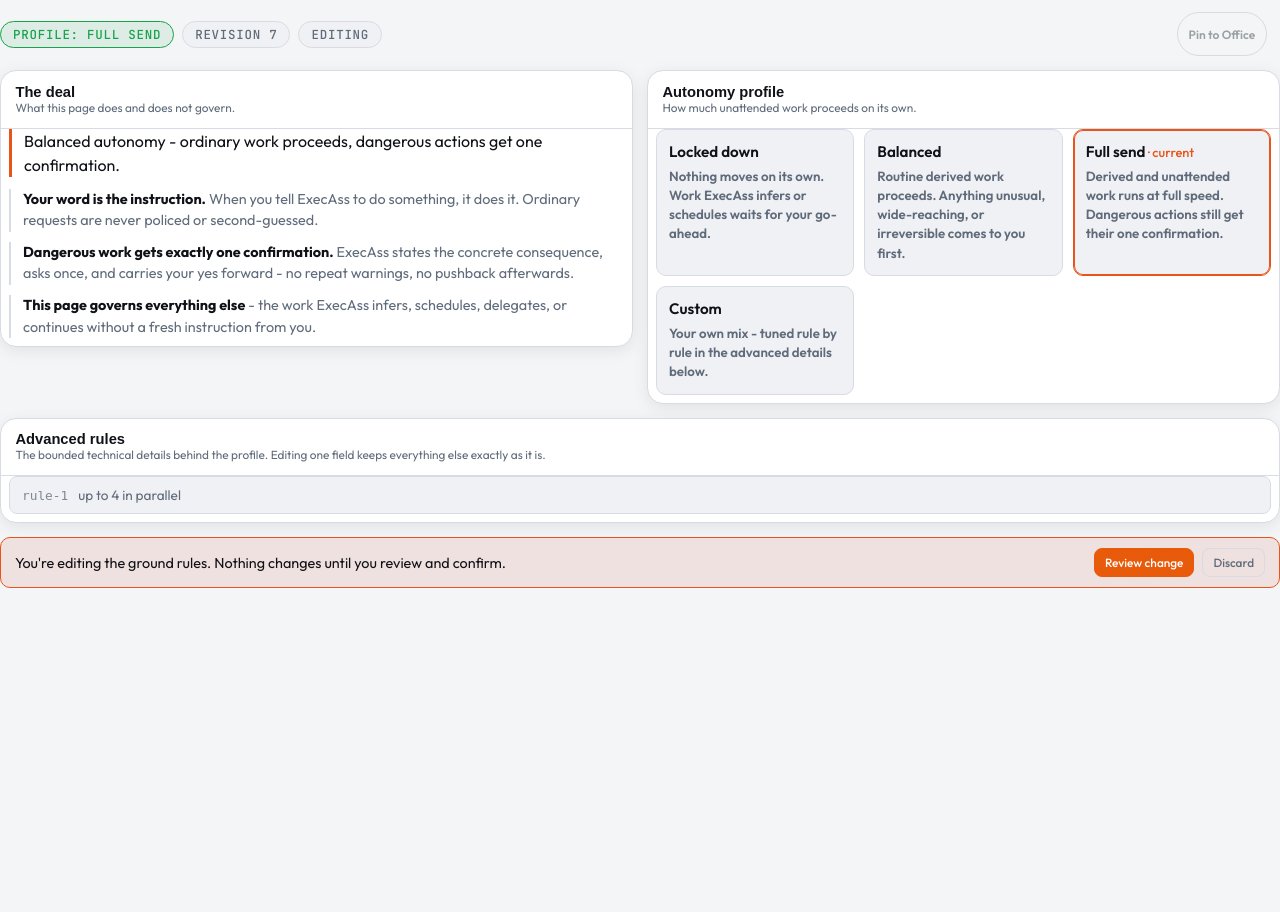
PolicyRoomPage editing › disables the confirmation while an apply is in flight
Click the button with test id "policy-review-open": (1144, 563) [1094,548,1194,577]
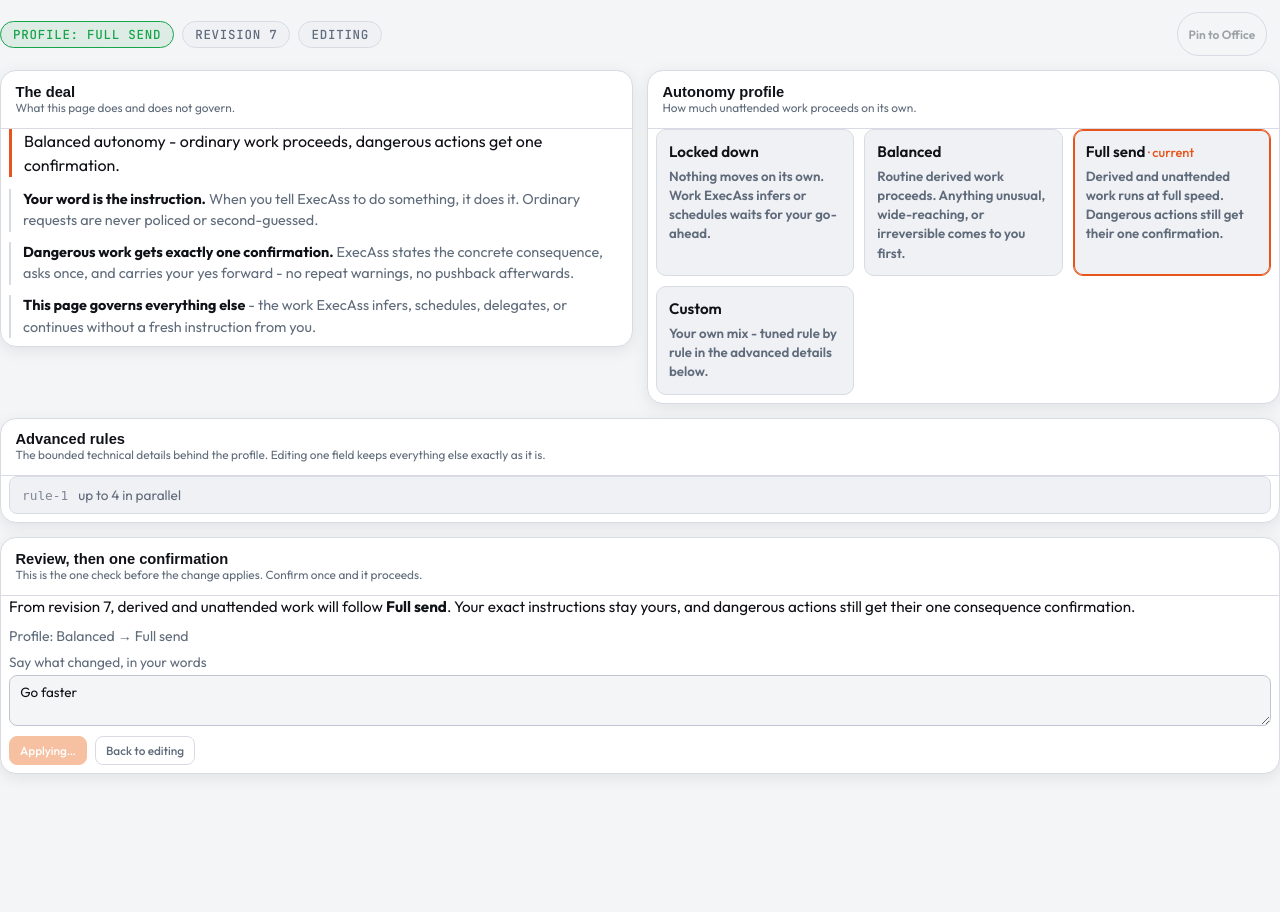
Check: the button with test id "policy-confirm" is disabled, box [9,736,87,765]
